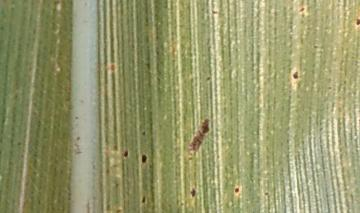tarspot: (187, 186, 200, 201), (120, 148, 132, 160), (297, 4, 308, 16), (291, 69, 300, 83), (261, 188, 272, 199), (232, 184, 242, 196), (202, 73, 214, 83), (140, 193, 148, 207), (140, 127, 148, 140), (140, 153, 148, 165), (354, 16, 360, 30)
